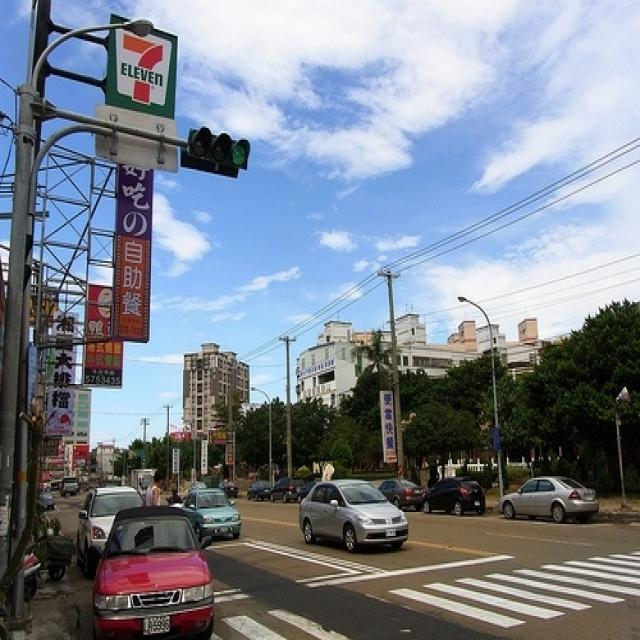green light: (183, 125, 253, 173)
